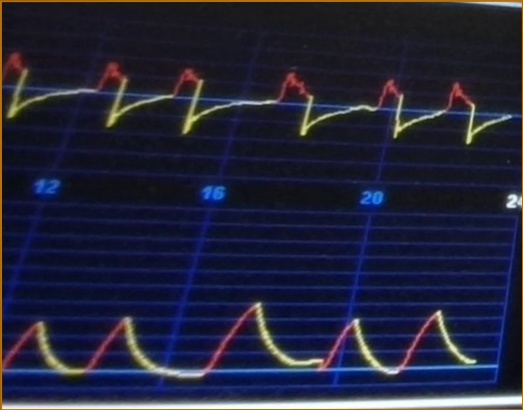Accumulation Flow: (3, 37, 513, 173)
Volume: (2, 277, 483, 391)
